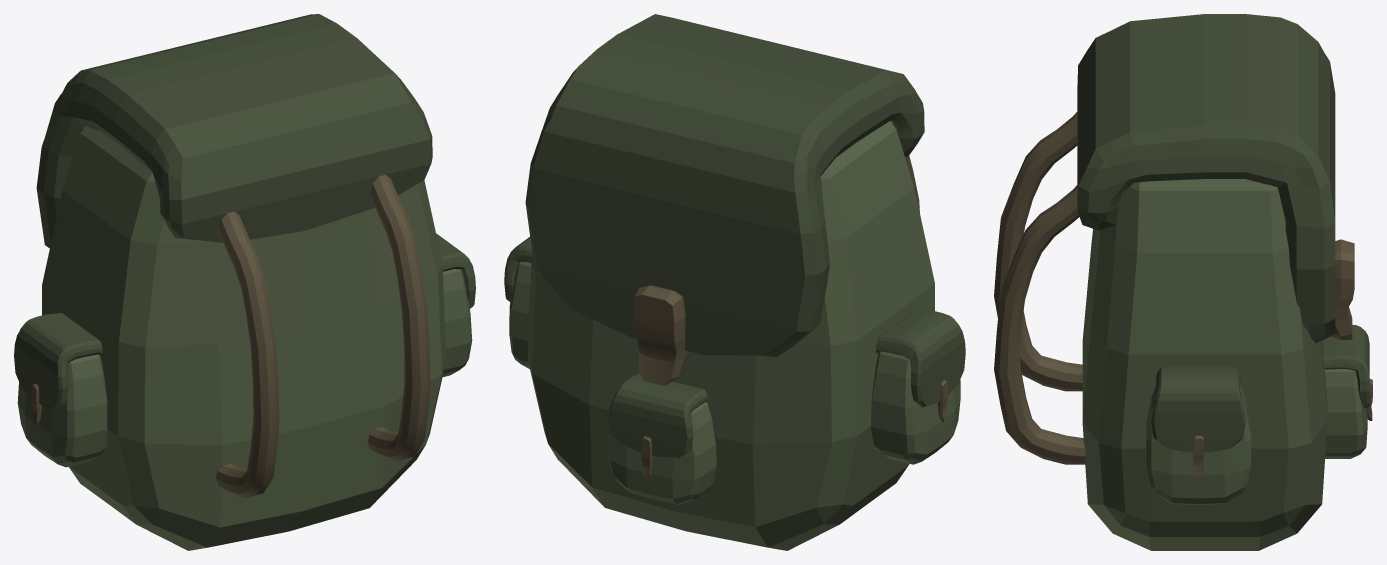
Rendered from backpack.fbx.
The picture shows the model from 3 angles, left to right: view 1: azimuth 30°, elevation 25°; view 2: azimuth 150°, elevation 25°; view 3: azimuth 270°, elevation 25°; orthographic projection.
Visible parts, largest first — view 1: pCube4, pCube5, pCube12 (×2), pCylinder58, pCylinder12, pCube13 (×2); view 2: pCube5, pCube4, pCube12 (×3), pCube13 (×3), pCube8; view 3: pCube4, pCube5, pCube13 (×2), pCube12 (×2), pCylinder12, pCylinder58, pCube8.
Part boxes in pixels (box(x1,y1,x2,y2)): pCube4: box(42, 126, 446, 550); pCube5: box(36, 14, 432, 248); pCube12 (×2): box(17, 269, 472, 467); pCylinder58: box(215, 211, 279, 498); pCylinder12: box(367, 174, 430, 461); pCube13 (×2): box(14, 233, 475, 410); pCube5: box(525, 14, 924, 357); pCube4: box(527, 121, 934, 550); pCube12 (×3): box(509, 261, 960, 504); pCube13 (×3): box(504, 237, 965, 457); pCube8: box(633, 285, 688, 385); pCube4: box(1082, 179, 1327, 550); pCube5: box(1077, 14, 1335, 343); pCube13 (×2): box(1151, 324, 1369, 452); pCube12 (×2): box(1146, 369, 1367, 504); pCylinder12: box(994, 185, 1085, 464); pCylinder58: box(994, 112, 1082, 391); pCube8: box(1331, 239, 1354, 339).
Size of the model in its own units: 8.94 by 9.1 by 7.
